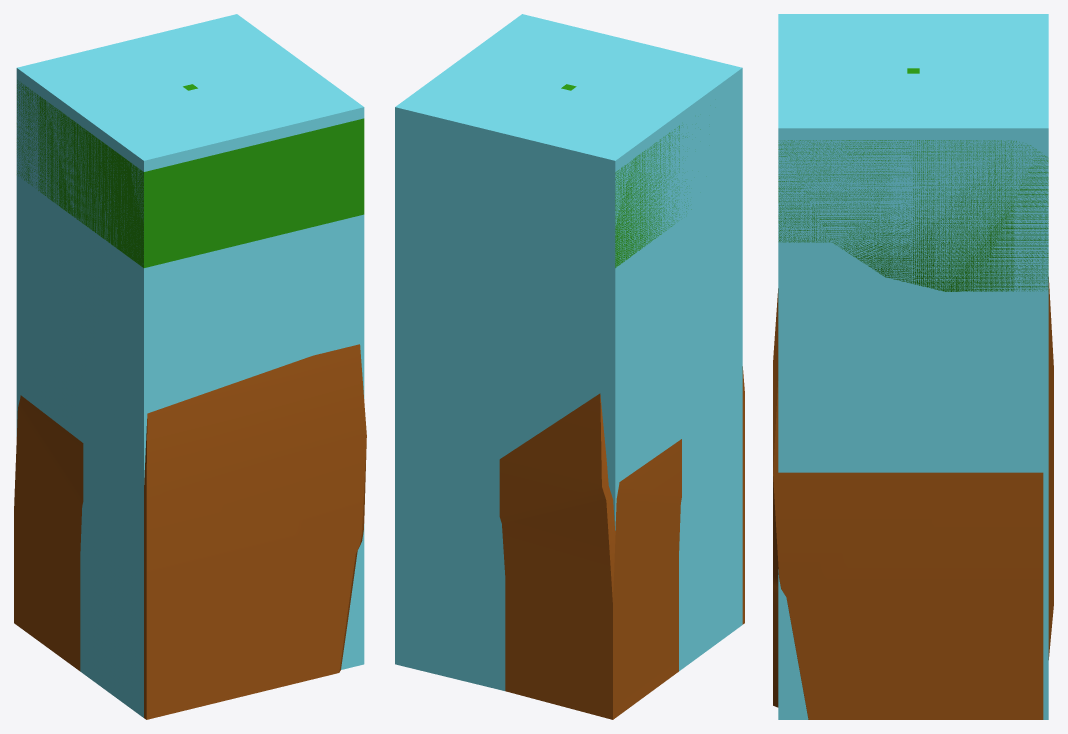
File: PBOX1_Grass_04.FBX
The picture shows the model from 3 angles, left to right: view 1: azimuth 30°, elevation 25°; view 2: azimuth 150°, elevation 25°; view 3: azimuth 270°, elevation 25°; orthographic projection. The views are drawn at different scales.
Visible parts, largest first — view 1: PBOX1_Grass_04, PBOX1_SUB_TAB_MUD_01, PBOX1_SUB_Grass_04; view 2: PBOX1_Grass_04, PBOX1_SUB_TAB_MUD_01, PBOX1_SUB_Grass_04; view 3: PBOX1_Grass_04, PBOX1_SUB_TAB_MUD_01, PBOX1_SUB_Grass_04.
Part boxes in pixels (box(x1,y1,x2,y2)): PBOX1_Grass_04: box(16, 14, 364, 717); PBOX1_SUB_TAB_MUD_01: box(14, 344, 366, 719); PBOX1_SUB_Grass_04: box(16, 80, 364, 267); PBOX1_Grass_04: box(395, 14, 742, 690); PBOX1_SUB_TAB_MUD_01: box(499, 366, 744, 719); PBOX1_SUB_Grass_04: box(561, 84, 700, 267); PBOX1_Grass_04: box(778, 14, 1048, 719); PBOX1_SUB_TAB_MUD_01: box(773, 277, 1053, 719); PBOX1_SUB_Grass_04: box(778, 68, 1048, 291).
Size of the model in its own units: 6.01 by 14.51 by 6.24.
